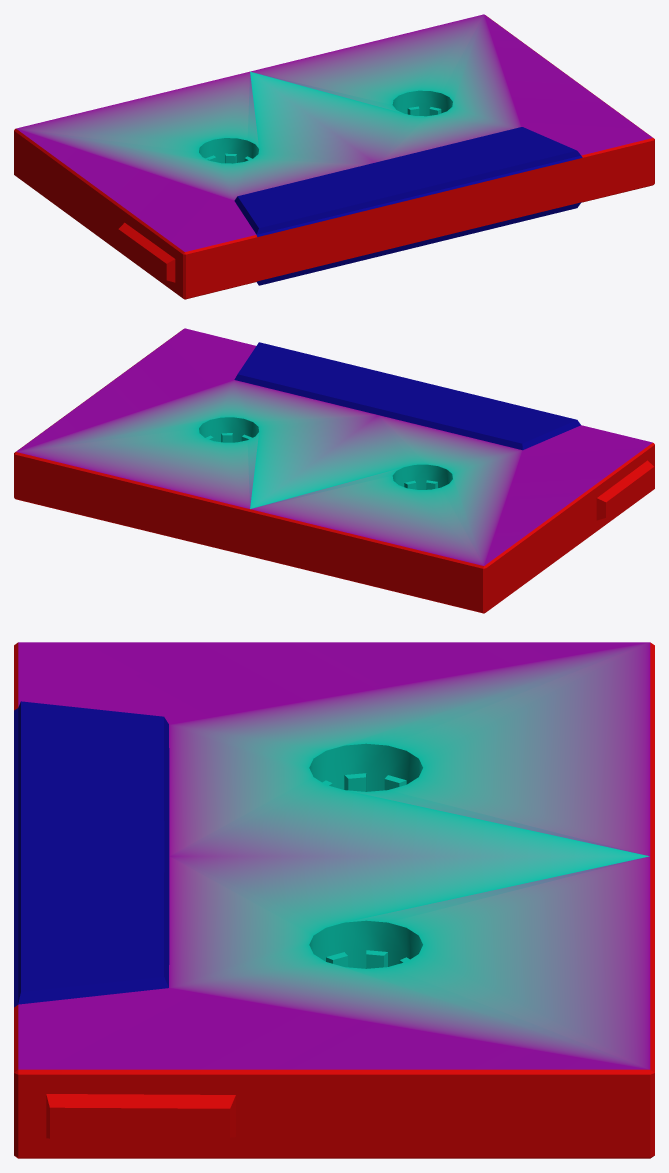
File: Cassette.fbx
The picture shows the model from 3 angles, top to bottom: view 1: azimuth 30°, elevation 25°; view 2: azimuth 150°, elevation 25°; view 3: azimuth 270°, elevation 25°; orthographic projection. The views are drawn at different scales.
Parts seen in each view (by area): view 1: Cassette; view 2: Cassette; view 3: Cassette.
Part boxes in pixels (bbox=[...]): Cassette: bbox=[14, 14, 654, 299]; Cassette: bbox=[14, 328, 654, 613]; Cassette: bbox=[14, 642, 654, 1158].
Size of the model in its own units: 10.4 by 1.17 by 6.33.
